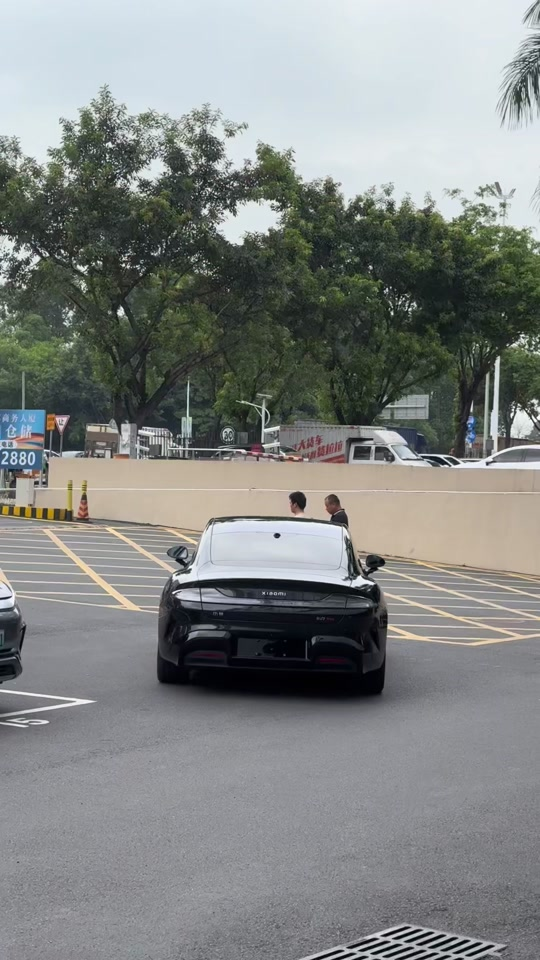su7: (156, 515, 393, 689)
